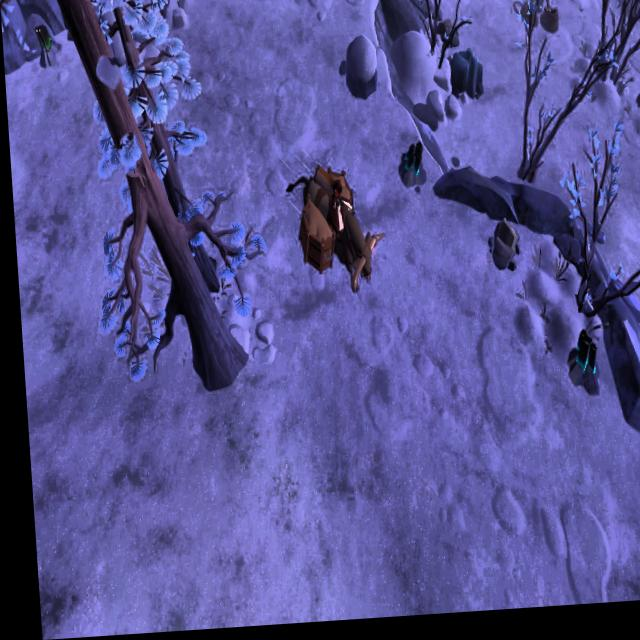ore_t3: (33, 21, 51, 59)
ore_t4: (568, 333, 593, 384), (399, 143, 423, 183)
rock_t4: (444, 50, 483, 103)
